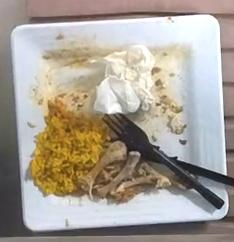rice: (30, 99, 108, 193)
